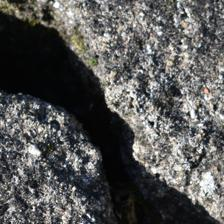Crack: (8, 5, 205, 210)
